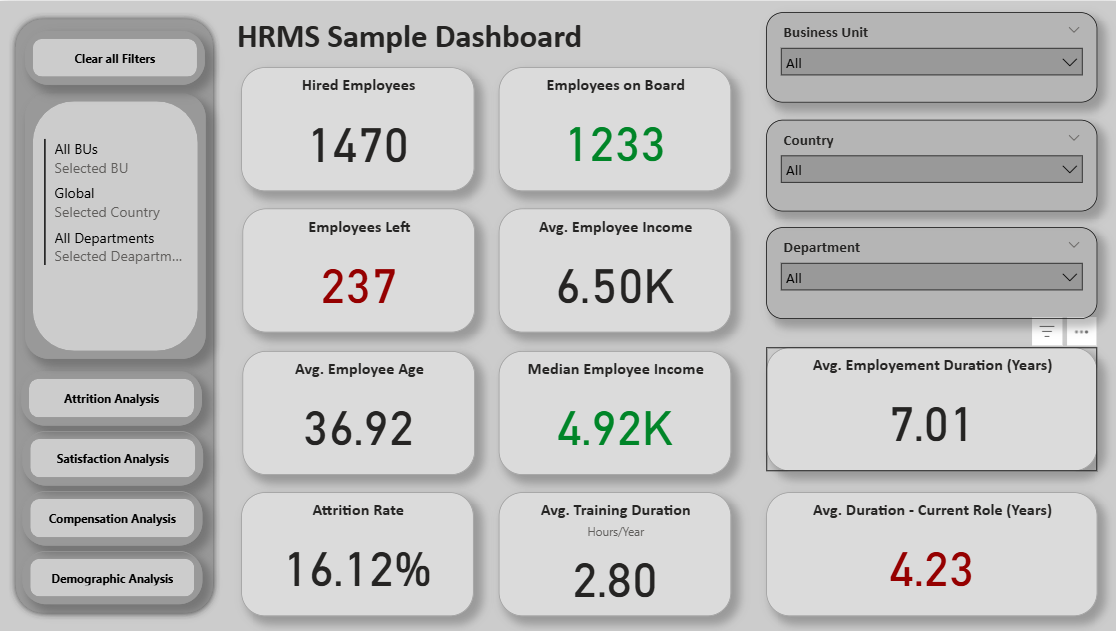

This screenshot's page, from the dashboard's own definition file:
{"tool":"powerbi","page":{"name":"Overview","canvas":[1280,720],"ordinal":0},"visuals":[{"type":"shape","box":[9.6,12.3,241.5,694.3],"z":0},{"type":"textbox","box":[265.7,12.9,540,62.9],"z":1000},{"type":"card","title":"Hired Employees","fields":{"Values":["HR_Data.Total Employees"]},"box":[275.3,75.3,266.7,142],"z":2000},{"type":"card","title":"Employees on Board","fields":{"Values":["HR_Data.Employees on Board"]},"box":[570,75.7,265.7,141.4],"z":3000},{"type":"card","title":"Attrition Rate","fields":{"Values":["HR_Data.Attrition Rate"]},"box":[275.7,561.4,265.7,141.4],"z":4000},{"type":"card","title":"Employees Left","fields":{"Values":["HR_Data.Employees Left"]},"box":[277.1,237.1,265.7,141.4],"z":5000},{"type":"card","title":"Avg. Employee Age","fields":{"Values":["HR_Data.Average Age"]},"box":[277.1,400,265.7,141.4],"z":6000},{"type":"card","title":"Avg. Employement Duration (Years)","fields":{"Values":["HR_Data.Average Employee Duration"]},"box":[875.7,395.7,378.6,141.4],"z":7000},{"type":"card","title":"Avg. Employee Income","fields":{"Values":["HR_Data.Average Income"]},"box":[570,237.1,265.7,141.4],"z":8000},{"type":"card","title":"Median Employee Income","fields":{"Values":["HR_Data.Median Income"]},"box":[570,400,265.7,141.4],"z":9000},{"type":"slicer","fields":{"Values":["Employee_Info.Business Unit"]},"box":[875,13.3,378.3,103.3],"z":10000},{"type":"slicer","fields":{"Values":["Employee_Info.EmployeeCountry"]},"box":[875,135,378.3,105],"z":11000},{"type":"shape","box":[24.4,422.2,206.7,62.2],"z":12000},{"type":"shape","box":[28.9,105.6,206.7,303.3],"z":13000},{"type":"slicer","fields":{"Values":["HR_Data.Department"]},"box":[875,258.3,378.3,105],"z":14000},{"type":"card","title":"Avg. Training Duration","fields":{"Values":["HR_Data.Average Training Time"]},"box":[570,561.4,265.7,141.4],"z":15000},{"type":"card","title":"Avg. Duration - Current Role (Years)","fields":{"Values":["HR_Data.Avg. Duration Current Role"]},"box":[875.7,561.4,378.6,141.4],"z":16000},{"type":"shape","box":[25.6,491.1,206.7,62.2],"z":17000},{"type":"shape","box":[25.6,560,205.6,62.2],"z":18000},{"type":"shape","box":[25.6,628.9,205.6,61.1],"z":19000},{"type":"shape","box":[28.6,34.3,205.7,61.4],"z":20000},{"type":"multiRowCard","fields":{"Values":["Employee_Info.Selected BU","Employee_Info.Selected Country","Employee_Info.Selected Deapartment"]},"box":[45.7,152.9,172.9,225.7],"z":21000}]}

Visuals, with their boxes in screenshot pixels (x1, y1, x2, y2), scaled from the page's 1280x720 canvas onto the 1116x631 screenshot:
shape: locate(8, 11, 219, 619)
textbox: locate(232, 11, 702, 66)
"Hired Employees" card: locate(240, 66, 473, 190)
"Employees on Board" card: locate(497, 66, 729, 190)
"Attrition Rate" card: locate(240, 492, 472, 616)
"Employees Left" card: locate(242, 208, 473, 332)
"Avg. Employee Age" card: locate(242, 351, 473, 474)
"Avg. Employement Duration (Years)" card: locate(764, 347, 1094, 471)
"Avg. Employee Income" card: locate(497, 208, 729, 332)
"Median Employee Income" card: locate(497, 351, 729, 474)
slicer - Employee_Info.Business Unit: locate(763, 12, 1093, 102)
slicer - Employee_Info.EmployeeCountry: locate(763, 118, 1093, 210)
shape: locate(21, 370, 201, 425)
shape: locate(25, 93, 205, 358)
slicer - HR_Data.Department: locate(763, 226, 1093, 318)
"Avg. Training Duration" card: locate(497, 492, 729, 616)
"Avg. Duration - Current Role (Years)" card: locate(764, 492, 1094, 616)
shape: locate(22, 430, 203, 485)
shape: locate(22, 491, 202, 545)
shape: locate(22, 551, 202, 605)
shape: locate(25, 30, 204, 84)
multiRowCard - Employee_Info.Selected BU x Employee_Info.Selected Country: locate(40, 134, 191, 332)
